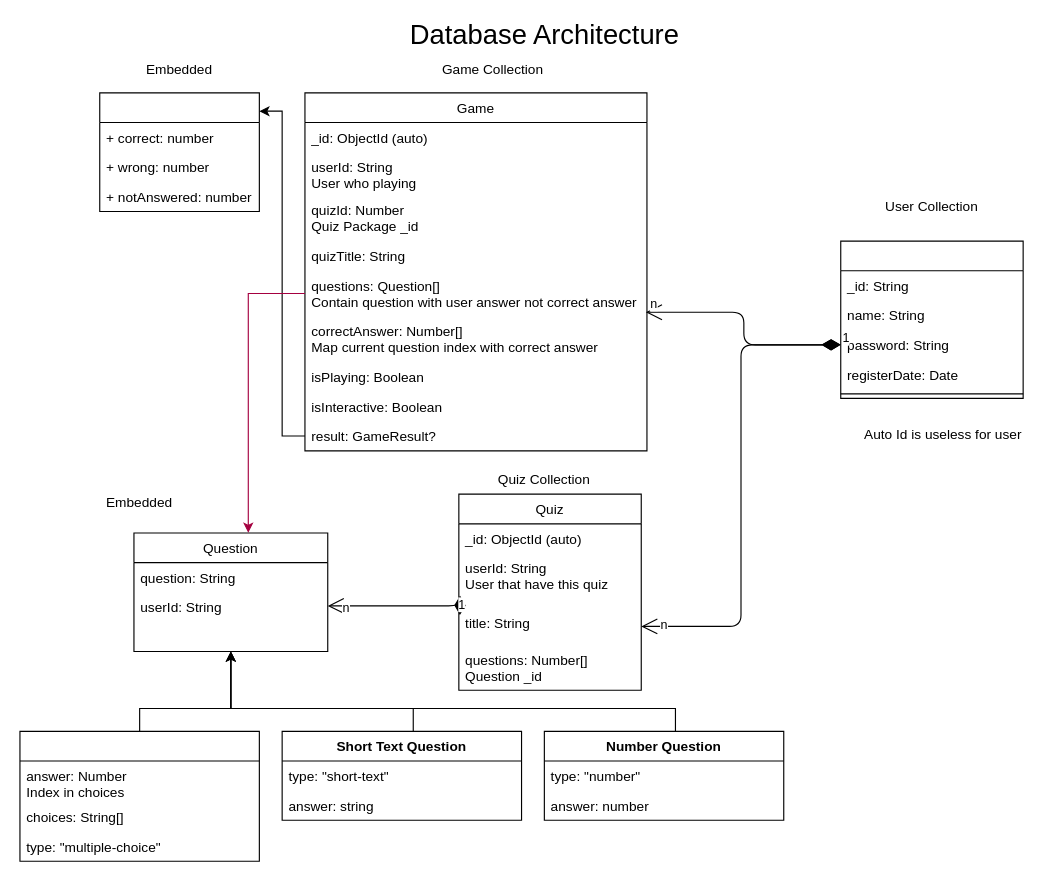
Image size: 1055x885. Some labels were removed from this diagram. The box of each missing label's shape, as (x1, y1, x2, y2) in pixels:
GameResult: (99, 92, 259, 211)
Multiple Choice Question: (19, 730, 259, 861)
User: (840, 240, 1023, 398)
